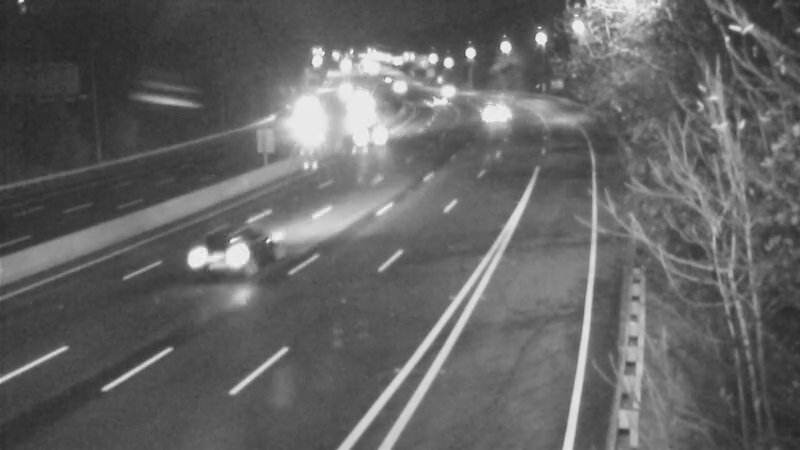vehicle: (179, 216, 259, 296), (375, 60, 425, 110), (421, 64, 471, 114), (418, 76, 468, 126), (471, 85, 521, 135), (344, 107, 394, 157), (284, 106, 334, 156)
